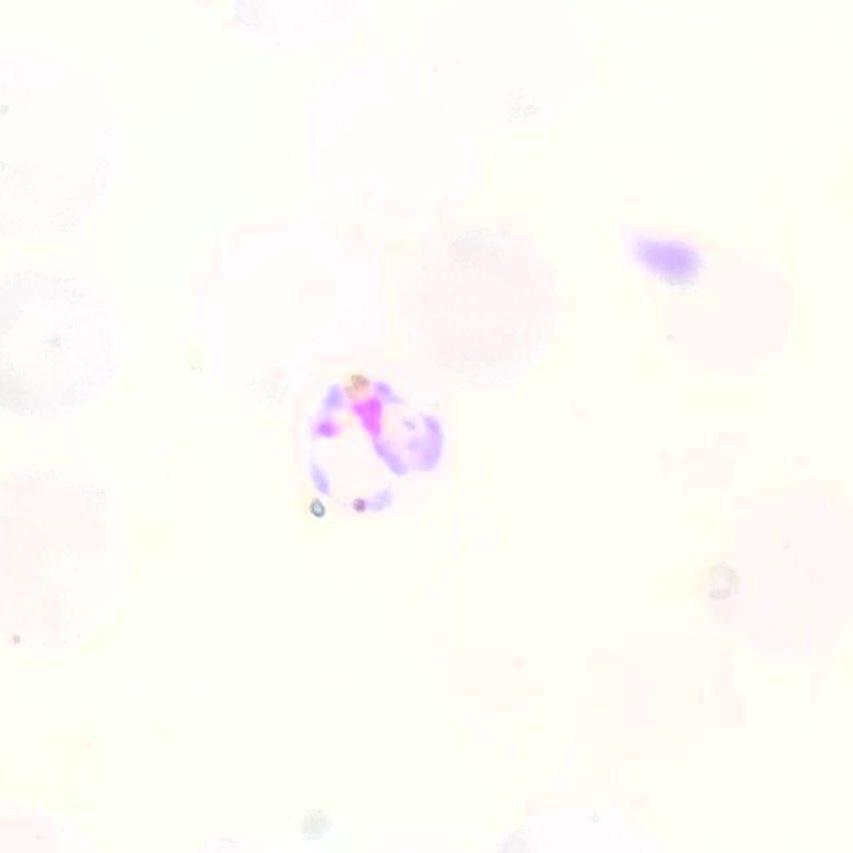Infected: (300, 365, 447, 521)
